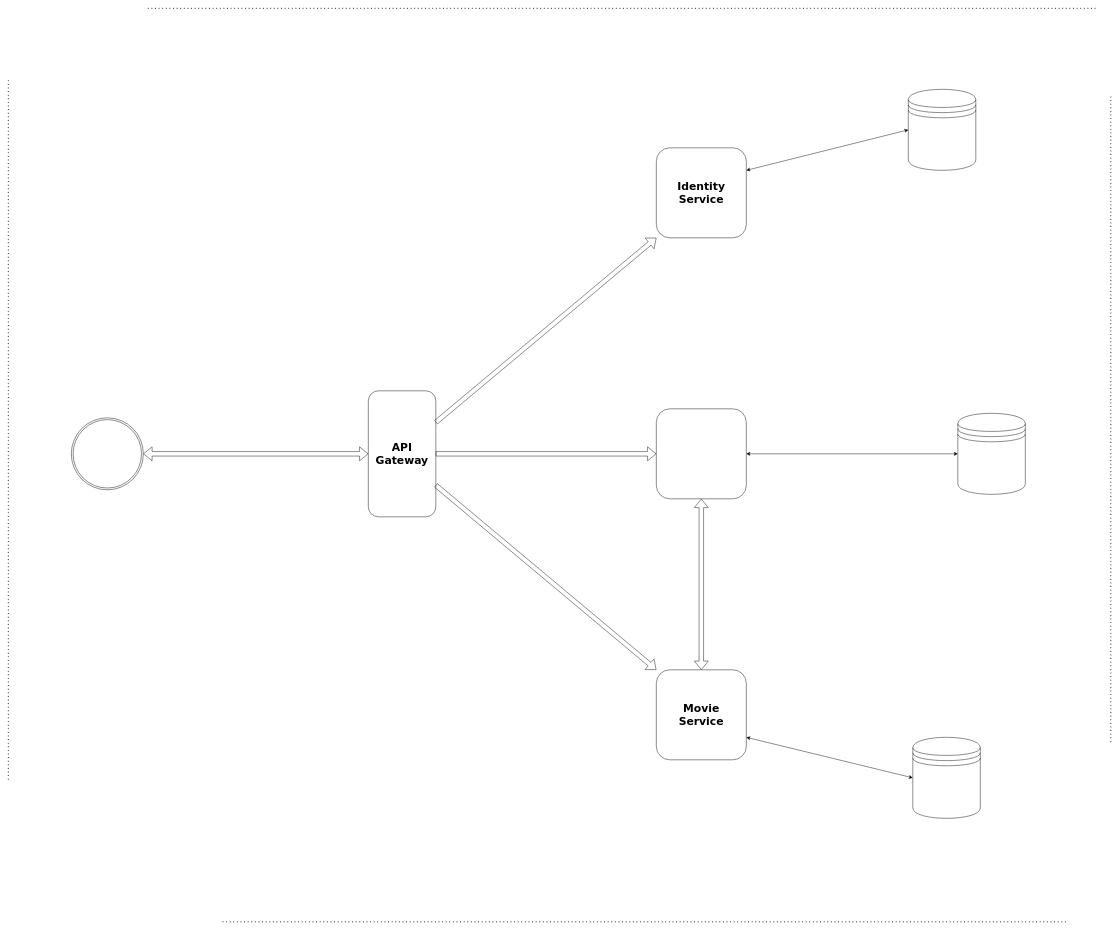
Image size: 1119x930. Some labels were removed from this diagram. The shapes that lost their labels are listed below. From the top down, each one's centre as x and y in pixels, then its label:
At (107,453): "Frontend".
At (701,453): "Reservation Service".
